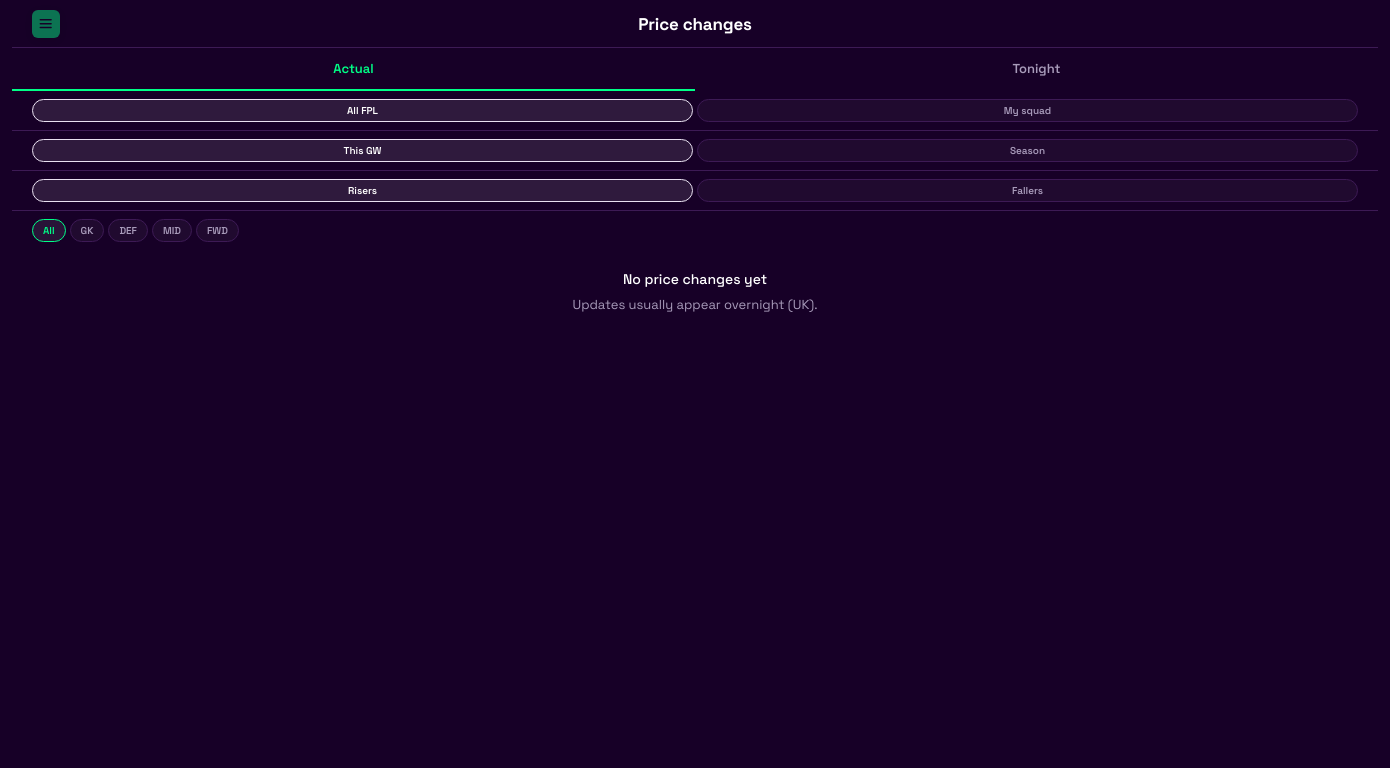
Scenario: PriceChangesScreen › switches to tonight tab
What coordinates should you click on to do the following:
click the tab "Tonight"
I would click on:
 (1036, 70)
Its box is top-left (695, 48), bottom-right (1378, 91).
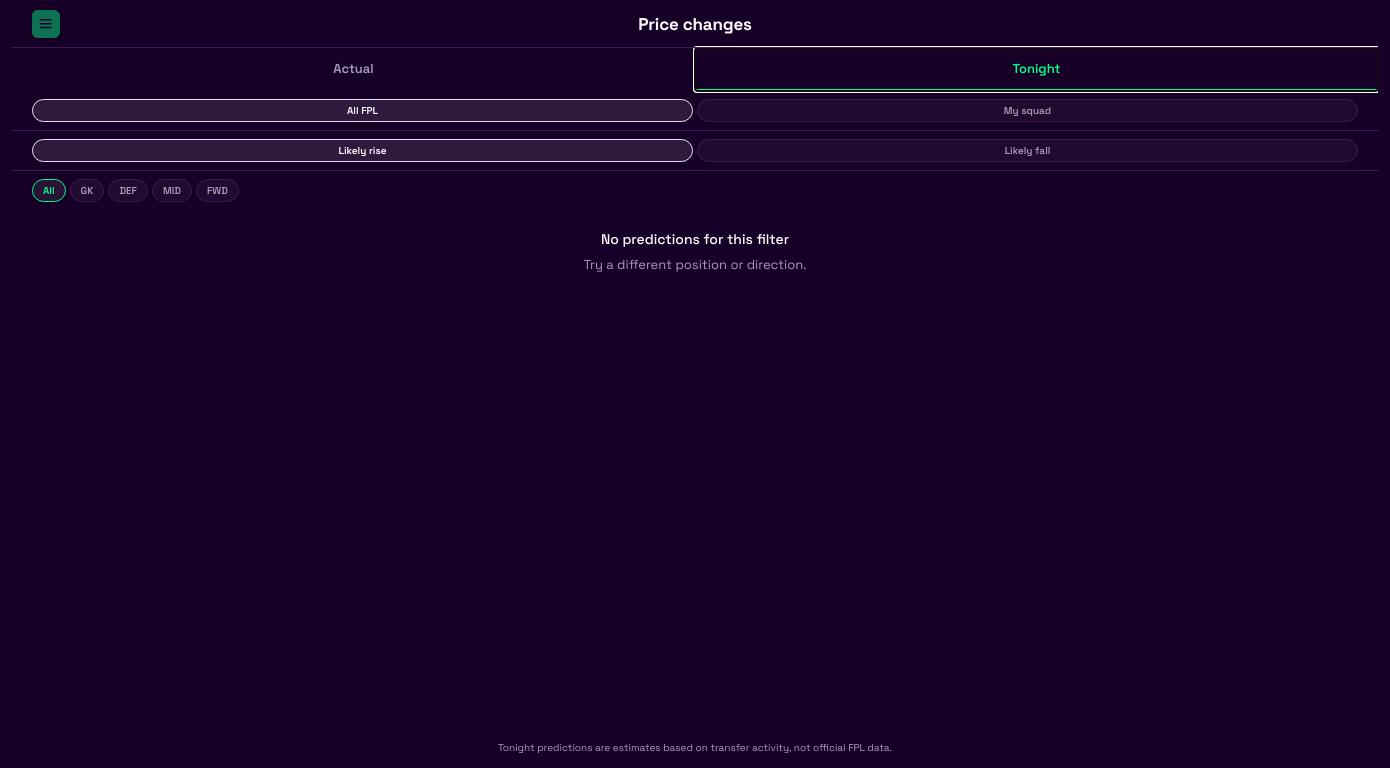
Expected: the text "No predictions for this filter" is shown, top-left (601, 230), bottom-right (789, 248)
